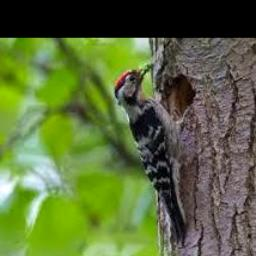Woodpecker: (115, 62, 195, 245)
